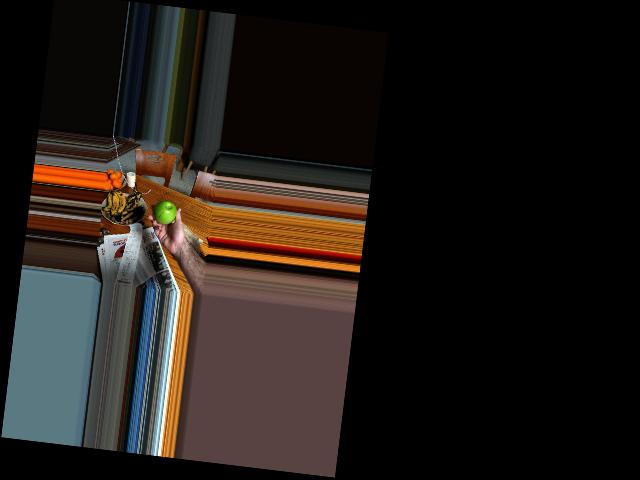apple: (150, 196, 180, 229)
